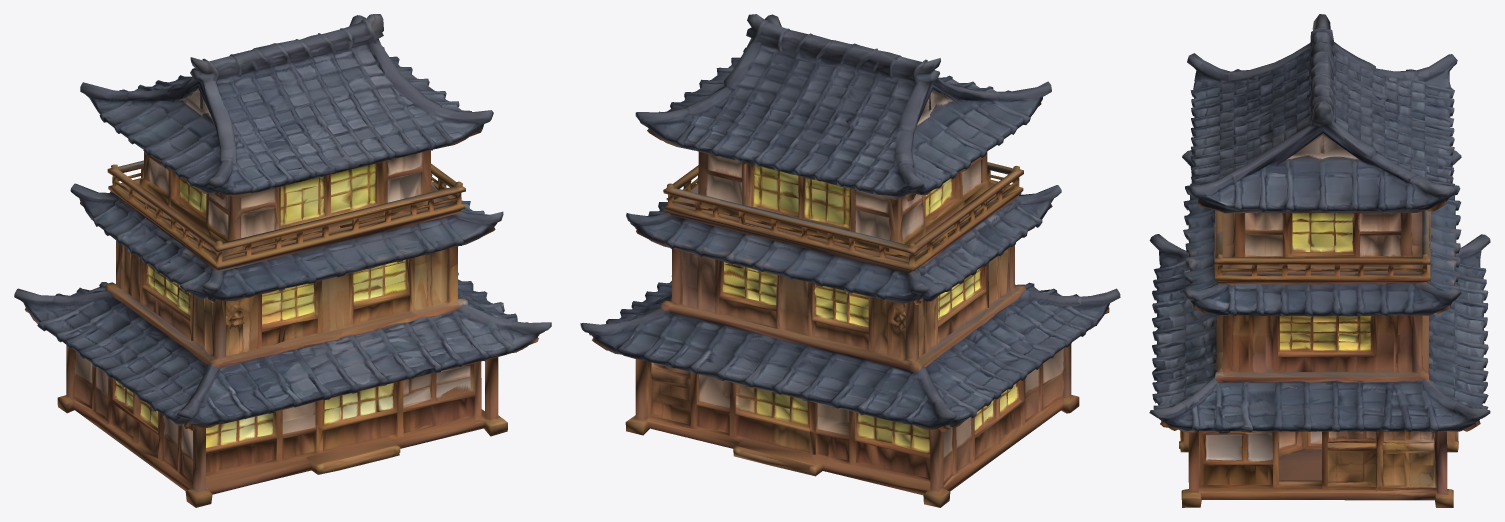
Rendered from bld_japan_townhouse3f.fbx.
3 renders of one model, left to right at view 1: azimuth 30°, elevation 25°; view 2: azimuth 150°, elevation 25°; view 3: azimuth 270°, elevation 25°, orthographic.
Parts seen in each view (by area): view 1: bld_japan_townhouse3f_LOD0; view 2: bld_japan_townhouse3f_LOD0; view 3: bld_japan_townhouse3f_LOD0.
Part boxes in pixels (x1=…): bld_japan_townhouse3f_LOD0: x1=14, y1=14, x2=551, y2=507; bld_japan_townhouse3f_LOD0: x1=580, y1=14, x2=1120, y2=507; bld_japan_townhouse3f_LOD0: x1=1149, y1=14, x2=1490, y2=507.
Size of what is drawn, in the model's own units: 0.9805 by 0.9545 by 0.7822.
